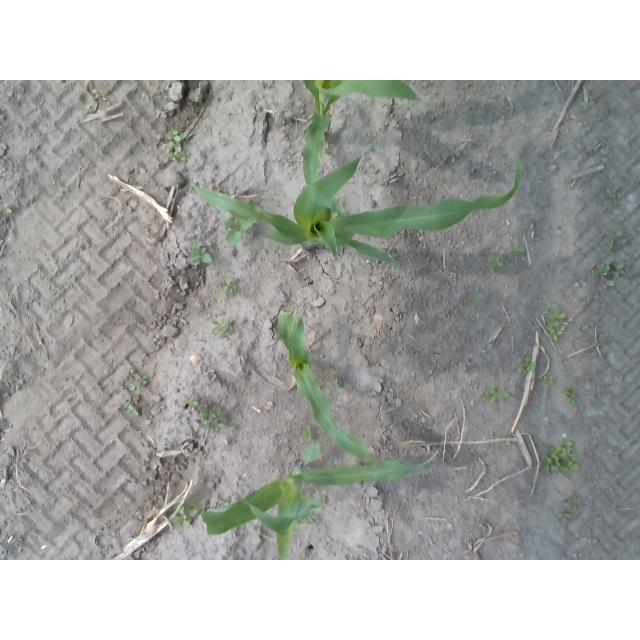Maize: (192, 135, 521, 265), (203, 441, 444, 560), (277, 310, 401, 463), (303, 80, 422, 184)
Weeds: (545, 441, 580, 472), (222, 218, 252, 246), (198, 406, 226, 430), (173, 506, 196, 530), (190, 243, 211, 265), (210, 319, 234, 338), (171, 147, 193, 163), (549, 322, 564, 342), (488, 387, 508, 402), (131, 373, 147, 391), (517, 356, 535, 372), (606, 187, 622, 205), (505, 240, 523, 255), (298, 426, 314, 442), (221, 280, 236, 295), (124, 399, 139, 414), (488, 257, 503, 272), (598, 258, 610, 275), (168, 130, 180, 146), (607, 240, 620, 254), (184, 393, 196, 408), (330, 376, 344, 388), (614, 263, 625, 277), (551, 309, 565, 320), (468, 294, 480, 306), (559, 510, 570, 522), (1, 202, 12, 214), (562, 389, 574, 399), (564, 499, 576, 509), (544, 374, 553, 386)
